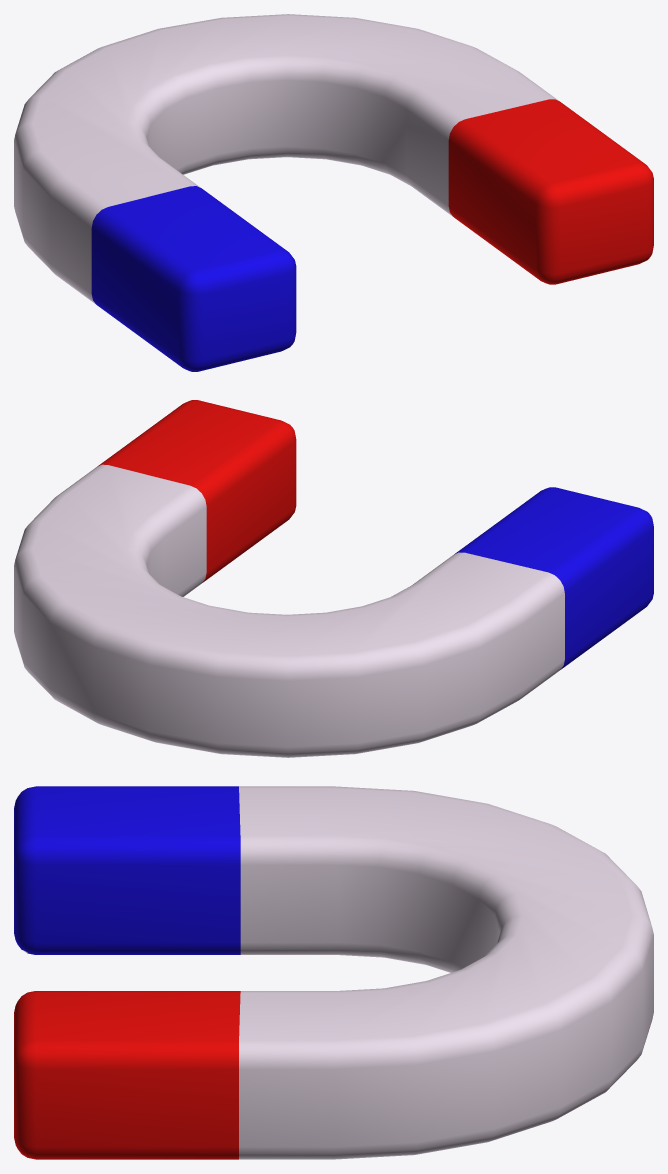
The model's file is Magnet.fbx.
The picture shows the model from 3 angles, top to bottom: view 1: azimuth 30°, elevation 25°; view 2: azimuth 150°, elevation 25°; view 3: azimuth 270°, elevation 25°; orthographic projection. The views are drawn at different scales.
Visible parts, largest first — view 1: Plane; view 2: Plane; view 3: Plane.
Part boxes in pixels (bbox=[...]): Plane: bbox=[14, 14, 653, 371]; Plane: bbox=[14, 400, 653, 757]; Plane: bbox=[14, 786, 653, 1159].
Size of the model in its own units: 200 by 40.38 by 200.
